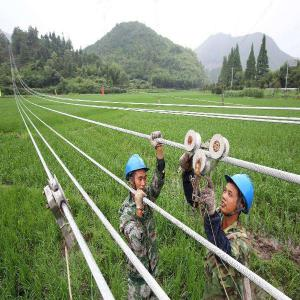blue: (220, 170, 256, 224), (125, 152, 150, 200)
